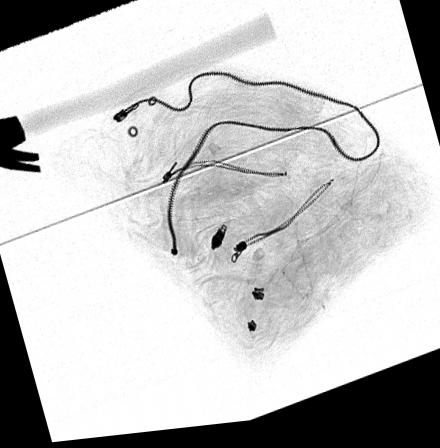Hammer: (0, 19, 276, 174)
